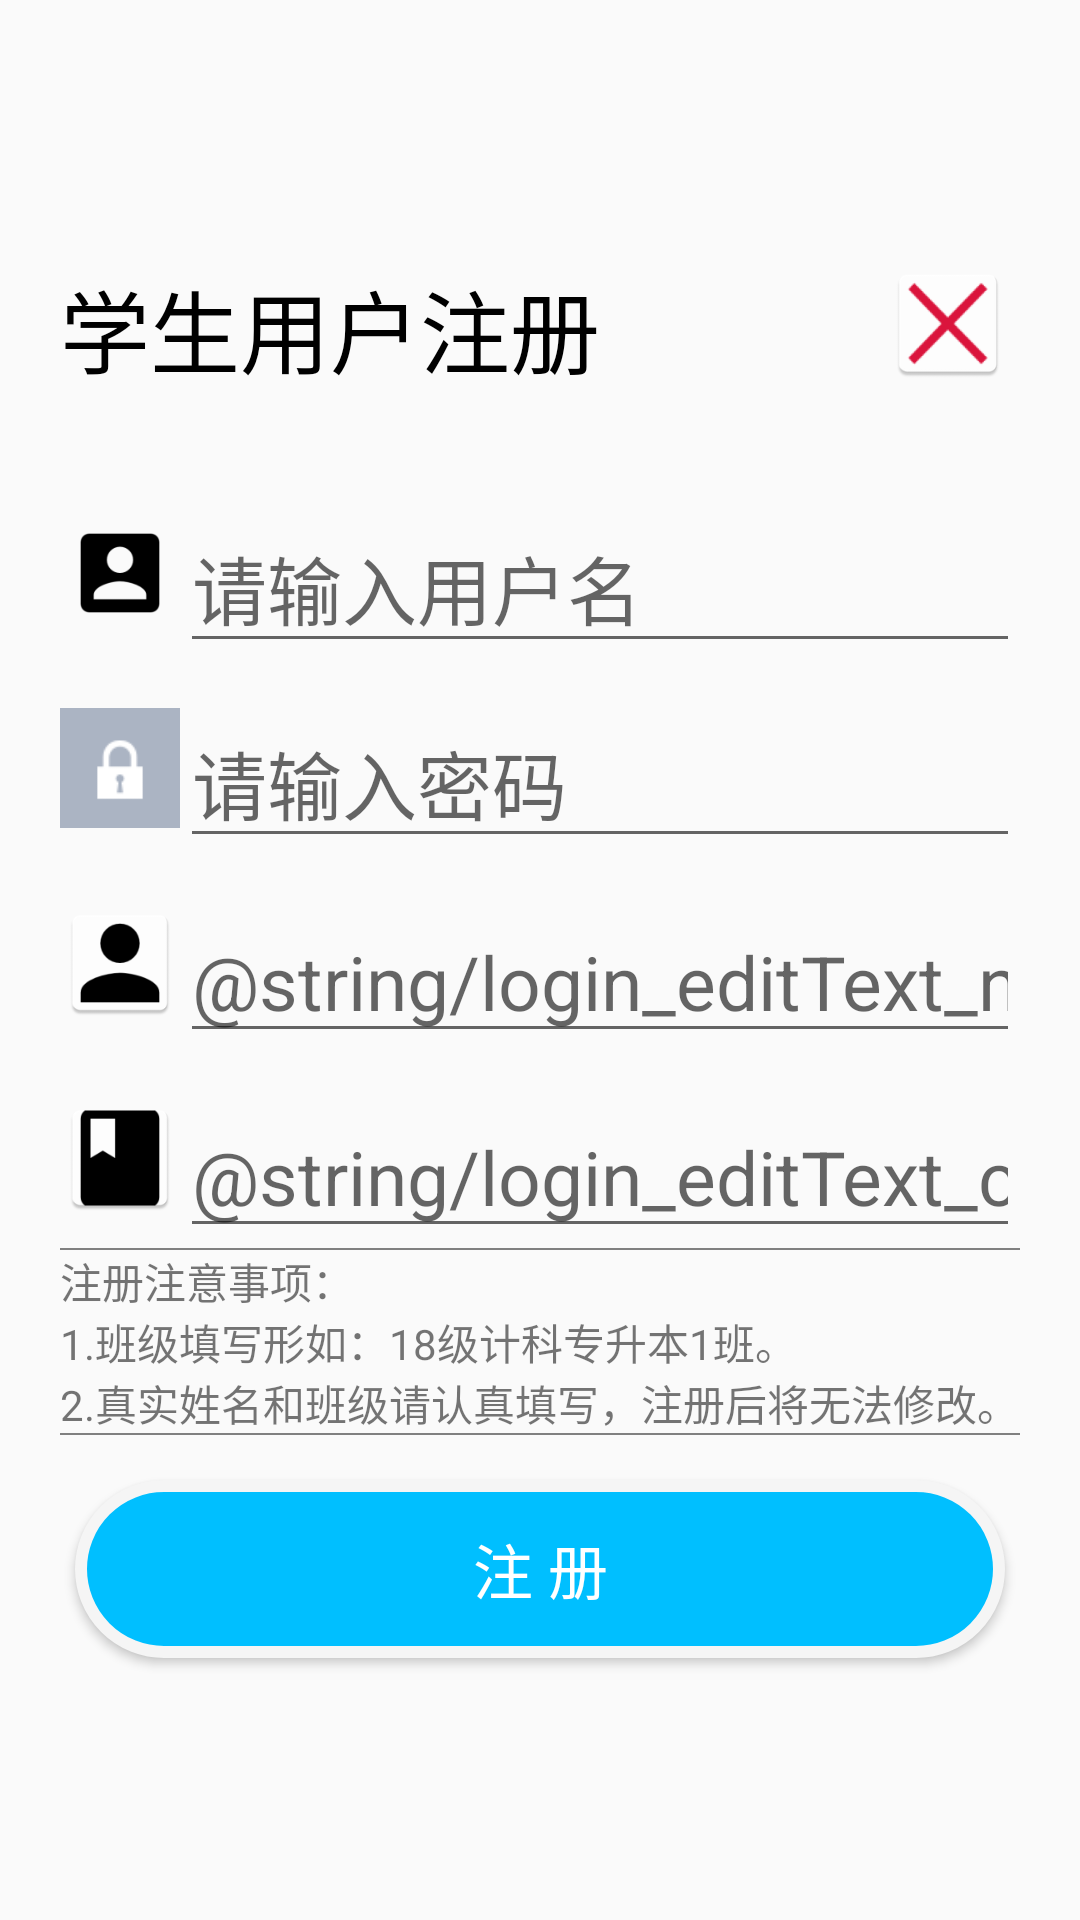

Icon bounding boxes for this 1080w x 1920h phone screenshot, format region(x1, y1, x2, y2):
class: region(73, 1110, 168, 1208)
close: region(899, 283, 997, 375)
password: region(60, 708, 180, 828)
user: region(80, 533, 160, 613)
